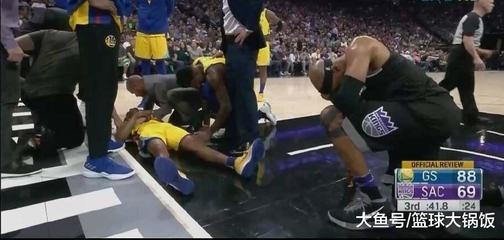falling: (110, 104, 273, 193)
